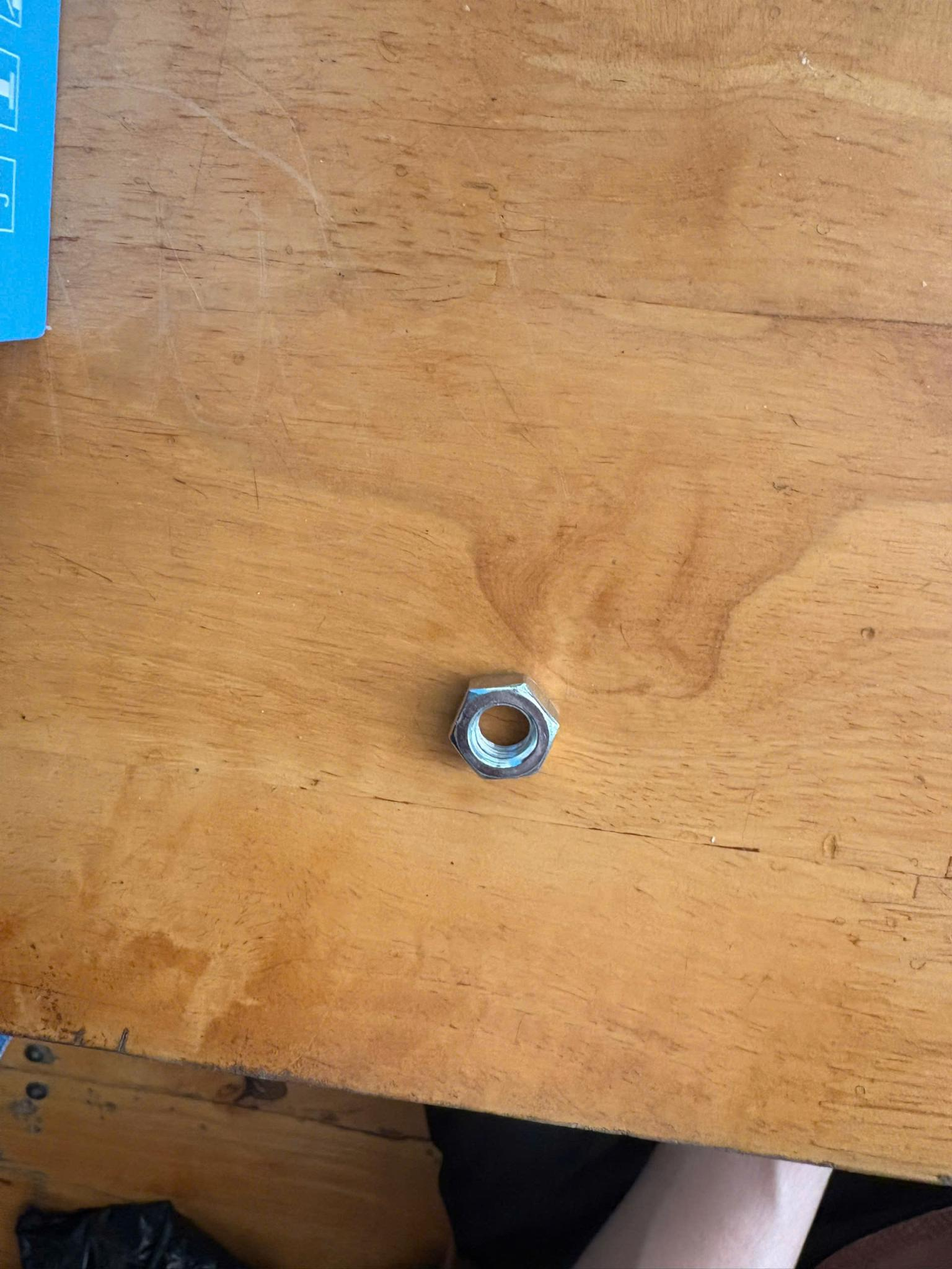nut: (444, 657, 573, 793)
